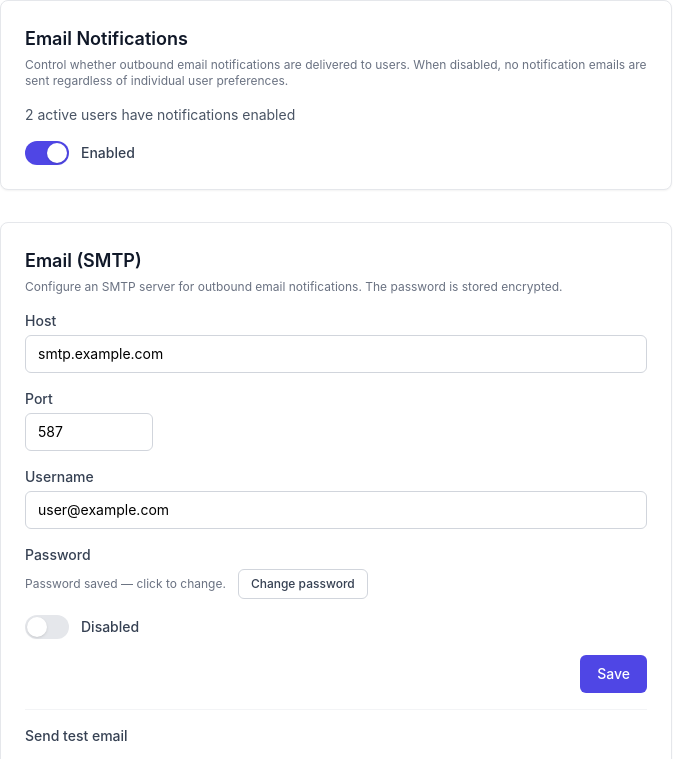
Test: NotificationSettings — SMTP section › reveals password input after clicking Change Password
Click the button with test id "smtp-change-password-button": (303, 584) [238,569,368,599]
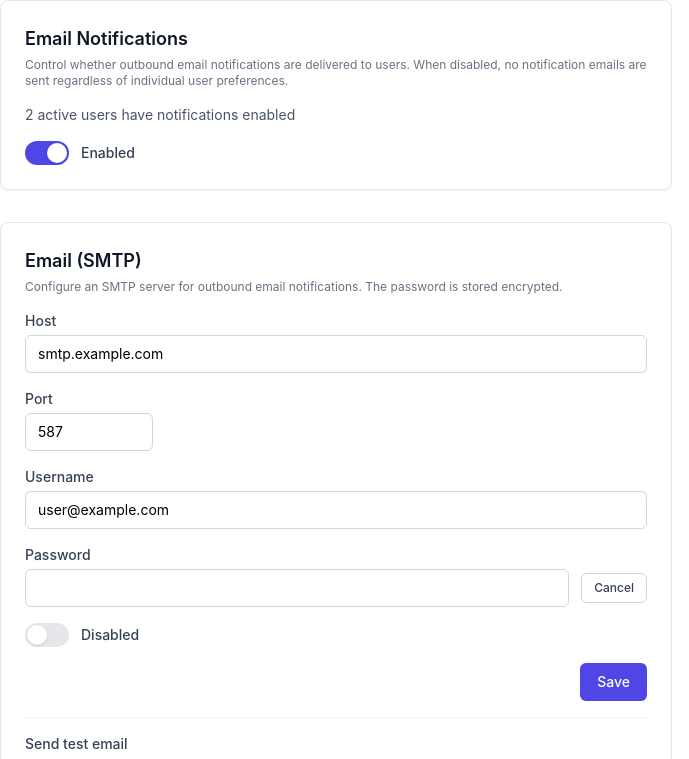
Now the password field with test id "smtp-pass-input" is shown, box [25,569,569,607]
Now the text with test id "smtp-pass-masked" is gone
